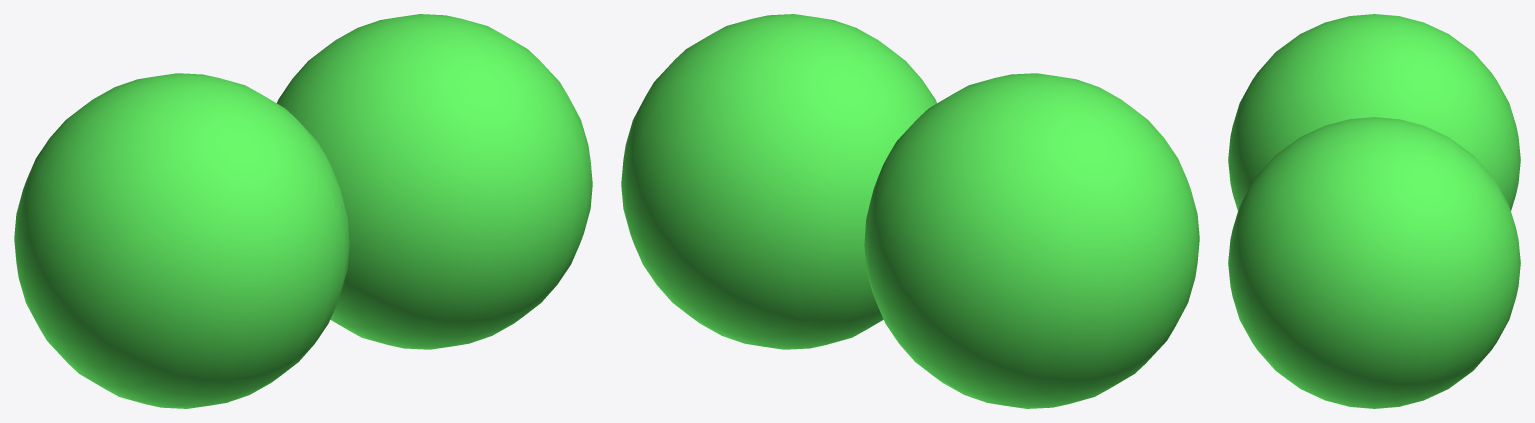
File: 17_Cl2_CKP.fbx
3 renders of one model, left to right at view 1: azimuth 30°, elevation 25°; view 2: azimuth 150°, elevation 25°; view 3: azimuth 270°, elevation 25°, orthographic. The views are drawn at different scales.
Visible parts, largest first — view 1: CL.003, CL.004; view 2: CL.003, CL.004; view 3: CL.004, CL.003.
Part boxes in pixels (x1,y1,x2,y2): CL.003: (14,73,349,408); CL.004: (277,14,592,349); CL.003: (864,73,1199,408); CL.004: (621,14,936,349); CL.004: (1228,117,1520,408); CL.003: (1228,14,1520,210).
Size of the model in its own units: 436 by 238 by 238.
